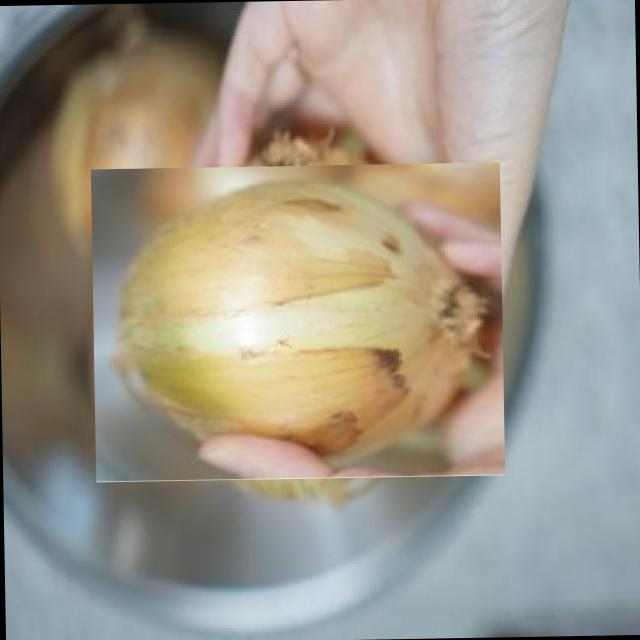Onion: (114, 138, 482, 505)
